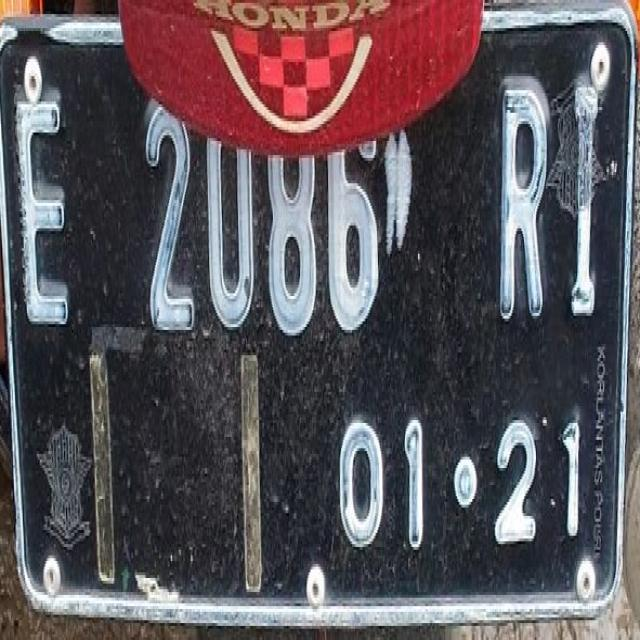plate: (0, 20, 634, 626)
